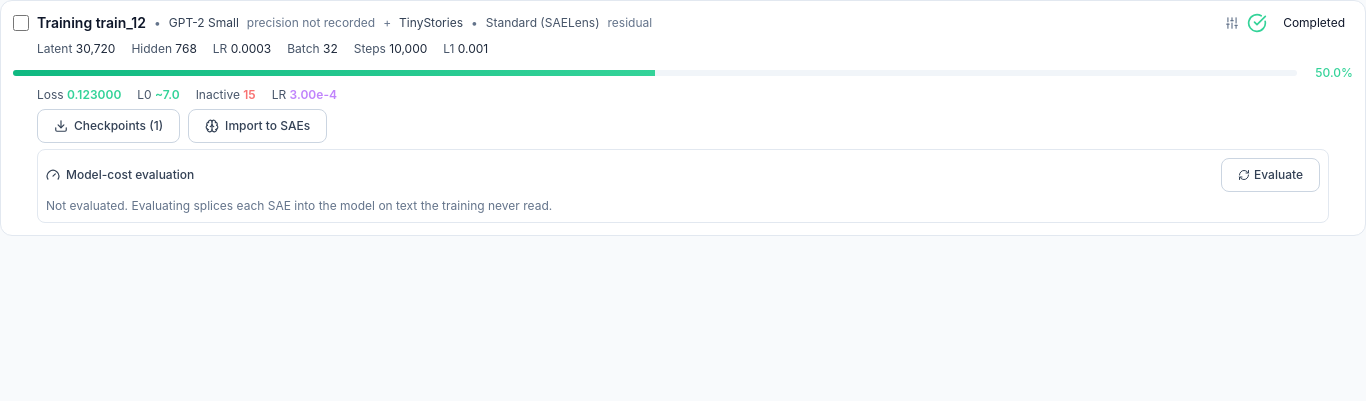
TrainingCard › L0 is shown as a feature count, never a raw fraction › renders the checkpoint L0 as a count, not 0.000
Click the button "Checkpoints (1)".
click(109, 126)  # box [37,109,180,143]
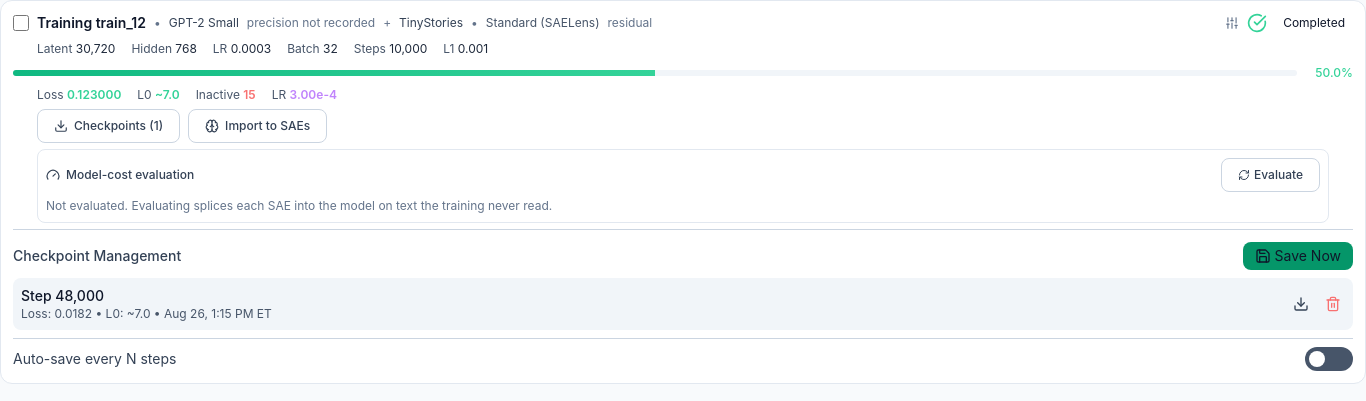
Expected: the text "Loss: 0.0182 • L0: ~7.0 • Aug 26, 1:15 PM ET" is shown, [21,306,272,322]
